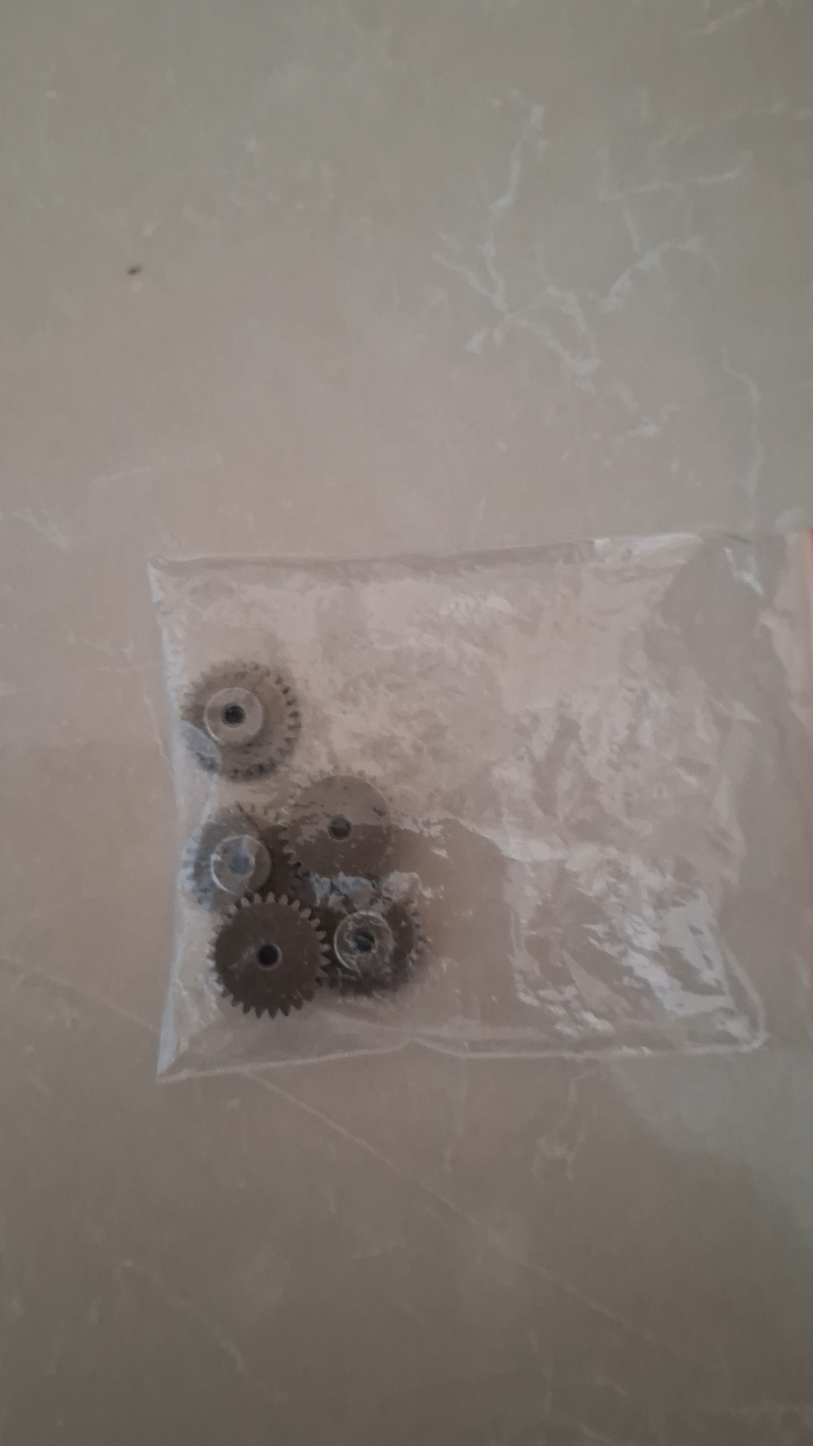spur gear: (181, 663, 300, 779), (211, 897, 327, 1016), (286, 775, 392, 878), (327, 897, 425, 995), (185, 806, 271, 911)
